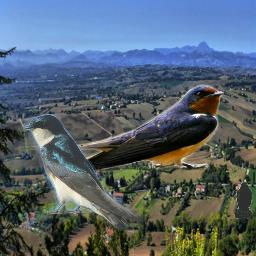Crow: (235, 182, 253, 219)
Swallow: (13, 83, 224, 174), (24, 114, 145, 231)
